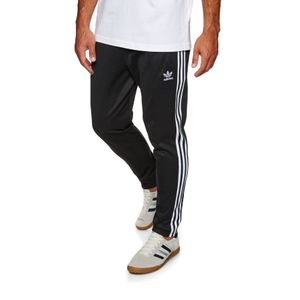feet: (117, 163, 184, 277)
